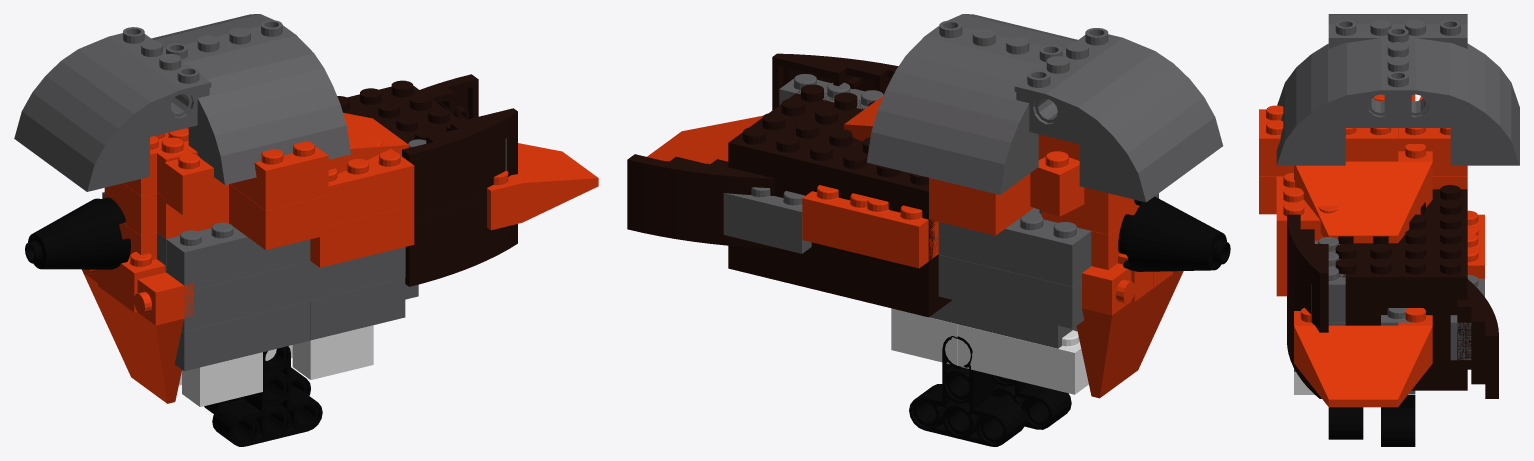
The model's file is Robin.dae.
The picture shows the model from 3 angles, left to right: view 1: azimuth 30°, elevation 25°; view 2: azimuth 150°, elevation 25°; view 3: azimuth 270°, elevation 25°; orthographic projection. The views are drawn at different scales.
Parts seen in each view (by area): view 1: Part.83, Part.82, Part.81, Part.9, Part.33, Part.21, Part.62, Part.0, Part.79, Part.18, Part.20, Part.67 (+20 smaller); view 2: Part.83, Part.84, Part.74, Part.34, Part.9, Part.75, Part.36, Part.1, Part.79, Part.35, Part.48, Part.65 (+18 smaller); view 3: Part.82, Part.84, Part.74, Part.62, Part.78, Part.81, Part.34, Part.83, Part.76, Part.77, Part.67, Part.1 (+14 smaller).
Part boxes in pixels (x1,y1,x2,y2): Part.83: (14,27,211,191); Part.82: (158,20,350,184); Part.81: (402,108,517,219); Part.9: (81,269,193,403); Part.33: (405,194,517,286); Part.21: (166,222,310,291); Part.62: (487,143,598,230); Part.0: (212,346,322,446); Part.79: (25,197,130,269); Part.18: (174,301,310,371); Part.20: (182,261,310,331); Part.67: (230,141,328,210); Part.83: (1014,28,1223,202); Part.84: (866,21,1069,194); Part.74: (728,84,935,232); Part.34: (627,154,774,248); Part.9: (1076,263,1183,398); Part.75: (728,245,952,317); Part.36: (938,213,1091,286); Part.1: (909,336,1025,446); Part.79: (1118,196,1230,271); Part.35: (938,254,1084,328); Part.48: (852,197,938,268); Part.65: (723,187,811,253); Part.82: (1276,27,1413,165); Part.84: (1383,27,1519,165); Part.74: (1334,185,1467,314); Part.62: (1294,307,1432,407); Part.78: (1294,144,1432,243); Part.81: (1287,214,1328,332); Part.34: (1457,279,1498,398); Part.83: (1328,14,1467,48); Part.76: (1345,128,1397,161); Part.77: (1398,128,1467,176); Part.67: (1259,105,1293,176); Part.1: (1381,395,1415,446).
Size of the model in its own units: 137 by 91.9 by 59.92.
